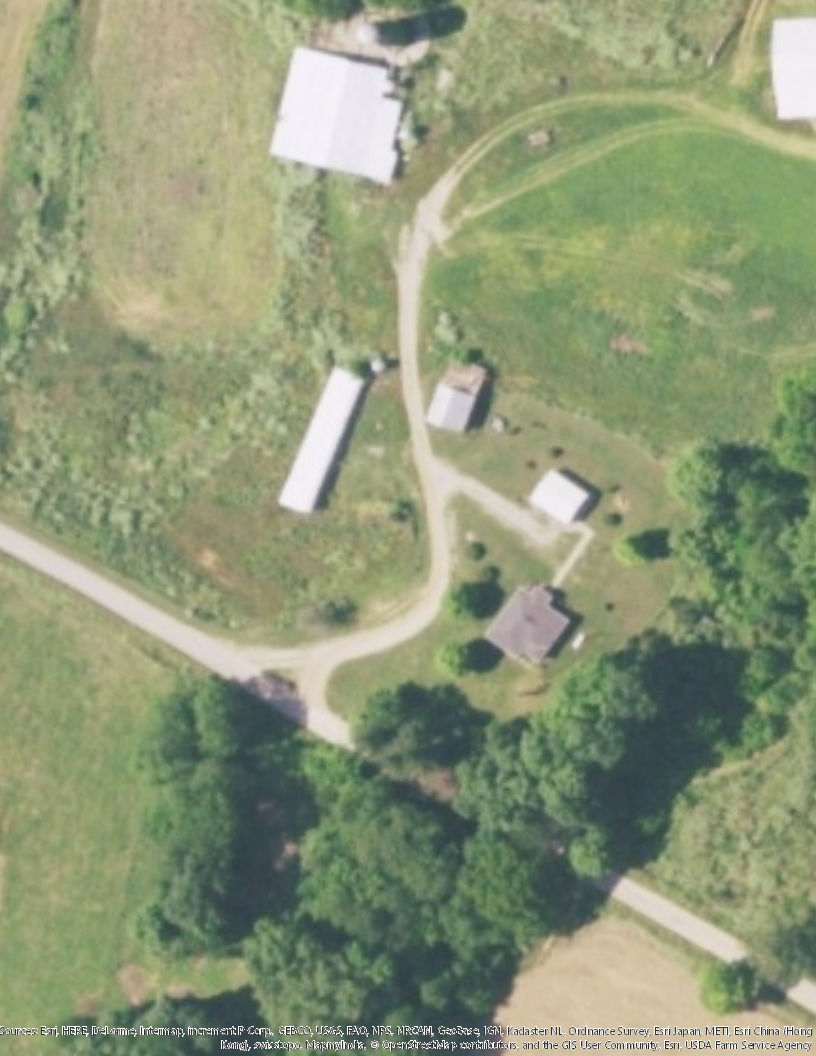cafo: (273, 361, 371, 520)
